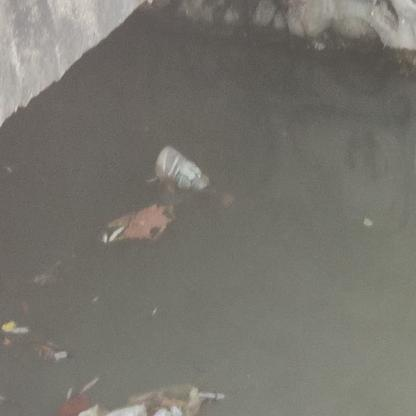plastic bottle: (153, 143, 208, 196)
